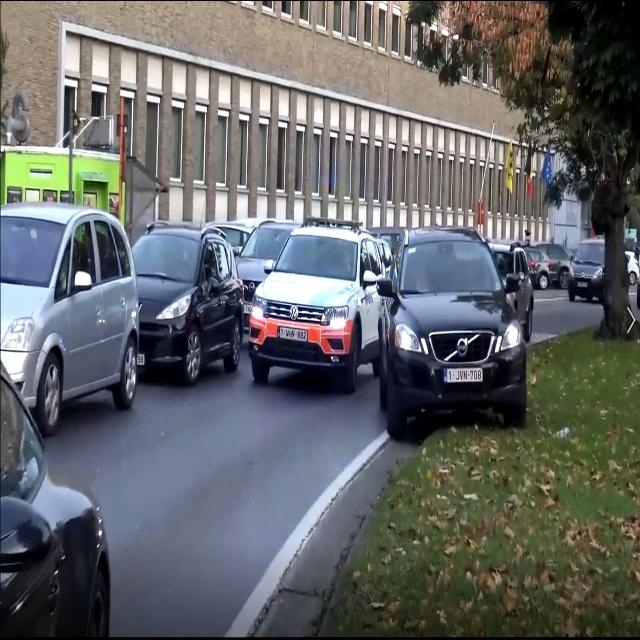emergency: (246, 212, 386, 400)
